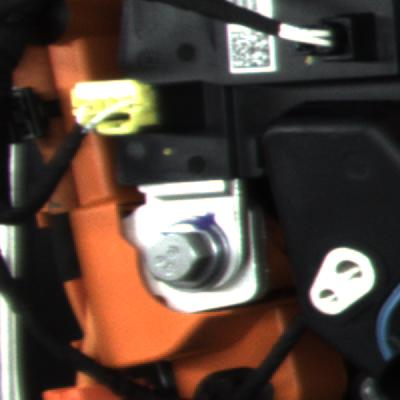nut_b: (136, 209, 240, 291)
